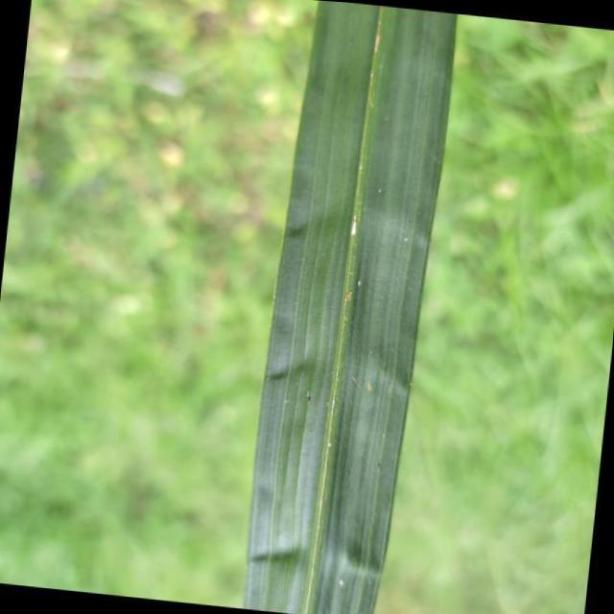Boron: (248, 5, 459, 614)
